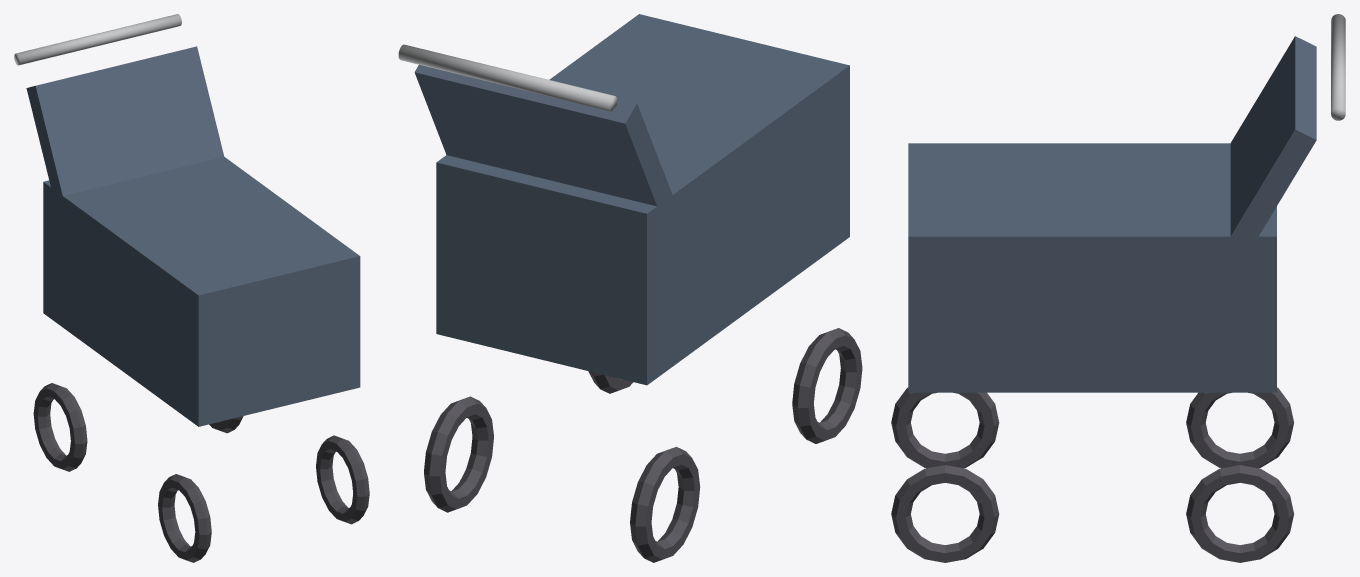
File: stroller.glb
The picture shows the model from 3 angles, left to right: view 1: azimuth 30°, elevation 25°; view 2: azimuth 150°, elevation 25°; view 3: azimuth 270°, elevation 25°; orthographic projection. The views are drawn at different scales.
Visible parts, largest first — view 1: navy, dark, cyl; view 2: navy, dark, cyl; view 3: navy, dark, cyl.
Part boxes in pixels (x1,y1,x2,y2): navy: (26,46,360,426); dark: (33,383,369,562); cyl: (14,14,181,65); navy: (414,14,849,385); dark: (424,328,862,562); cyl: (398,44,617,111); navy: (908,36,1316,392); dark: (891,387,1293,562); cyl: (1331,14,1345,120).
Bounding box in the file's own units: 0.4746 × 1.02 × 0.925.
